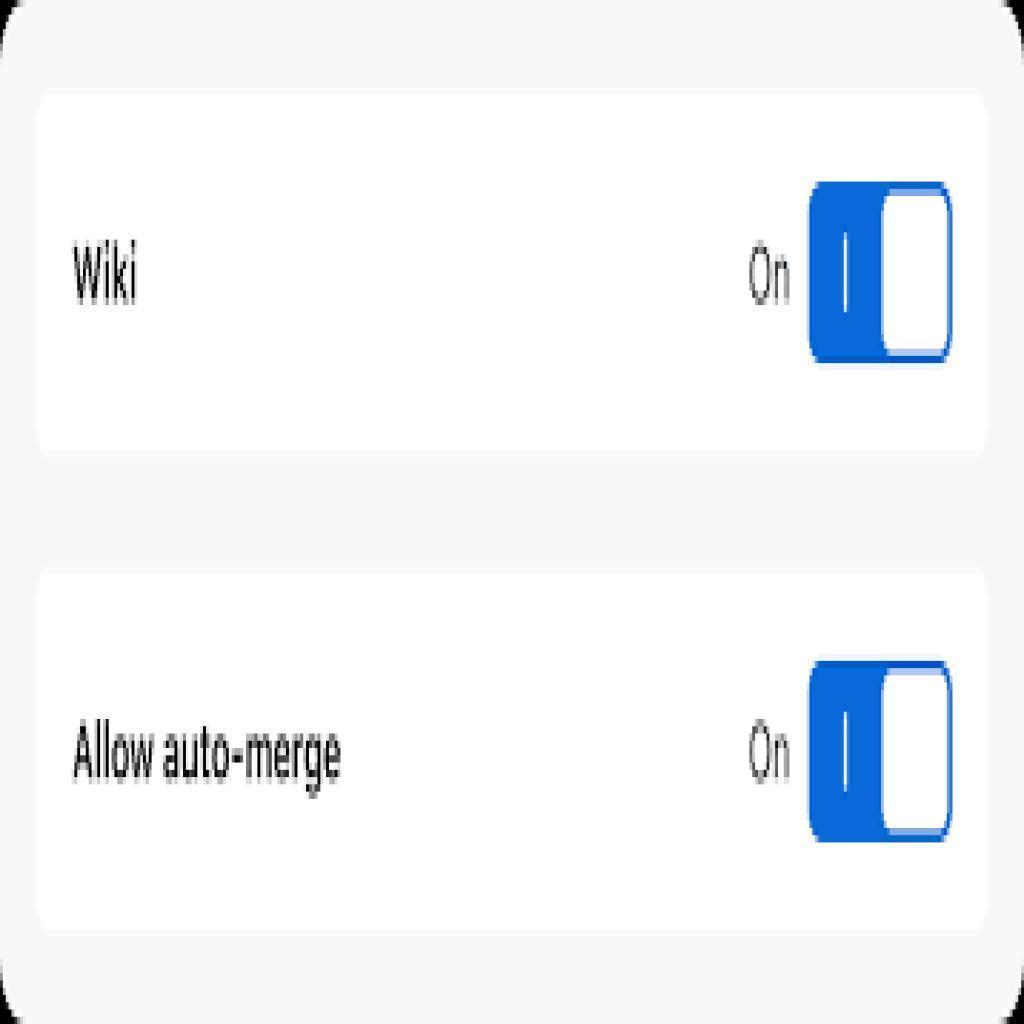switch: (808, 184, 954, 364), (810, 660, 952, 842)
